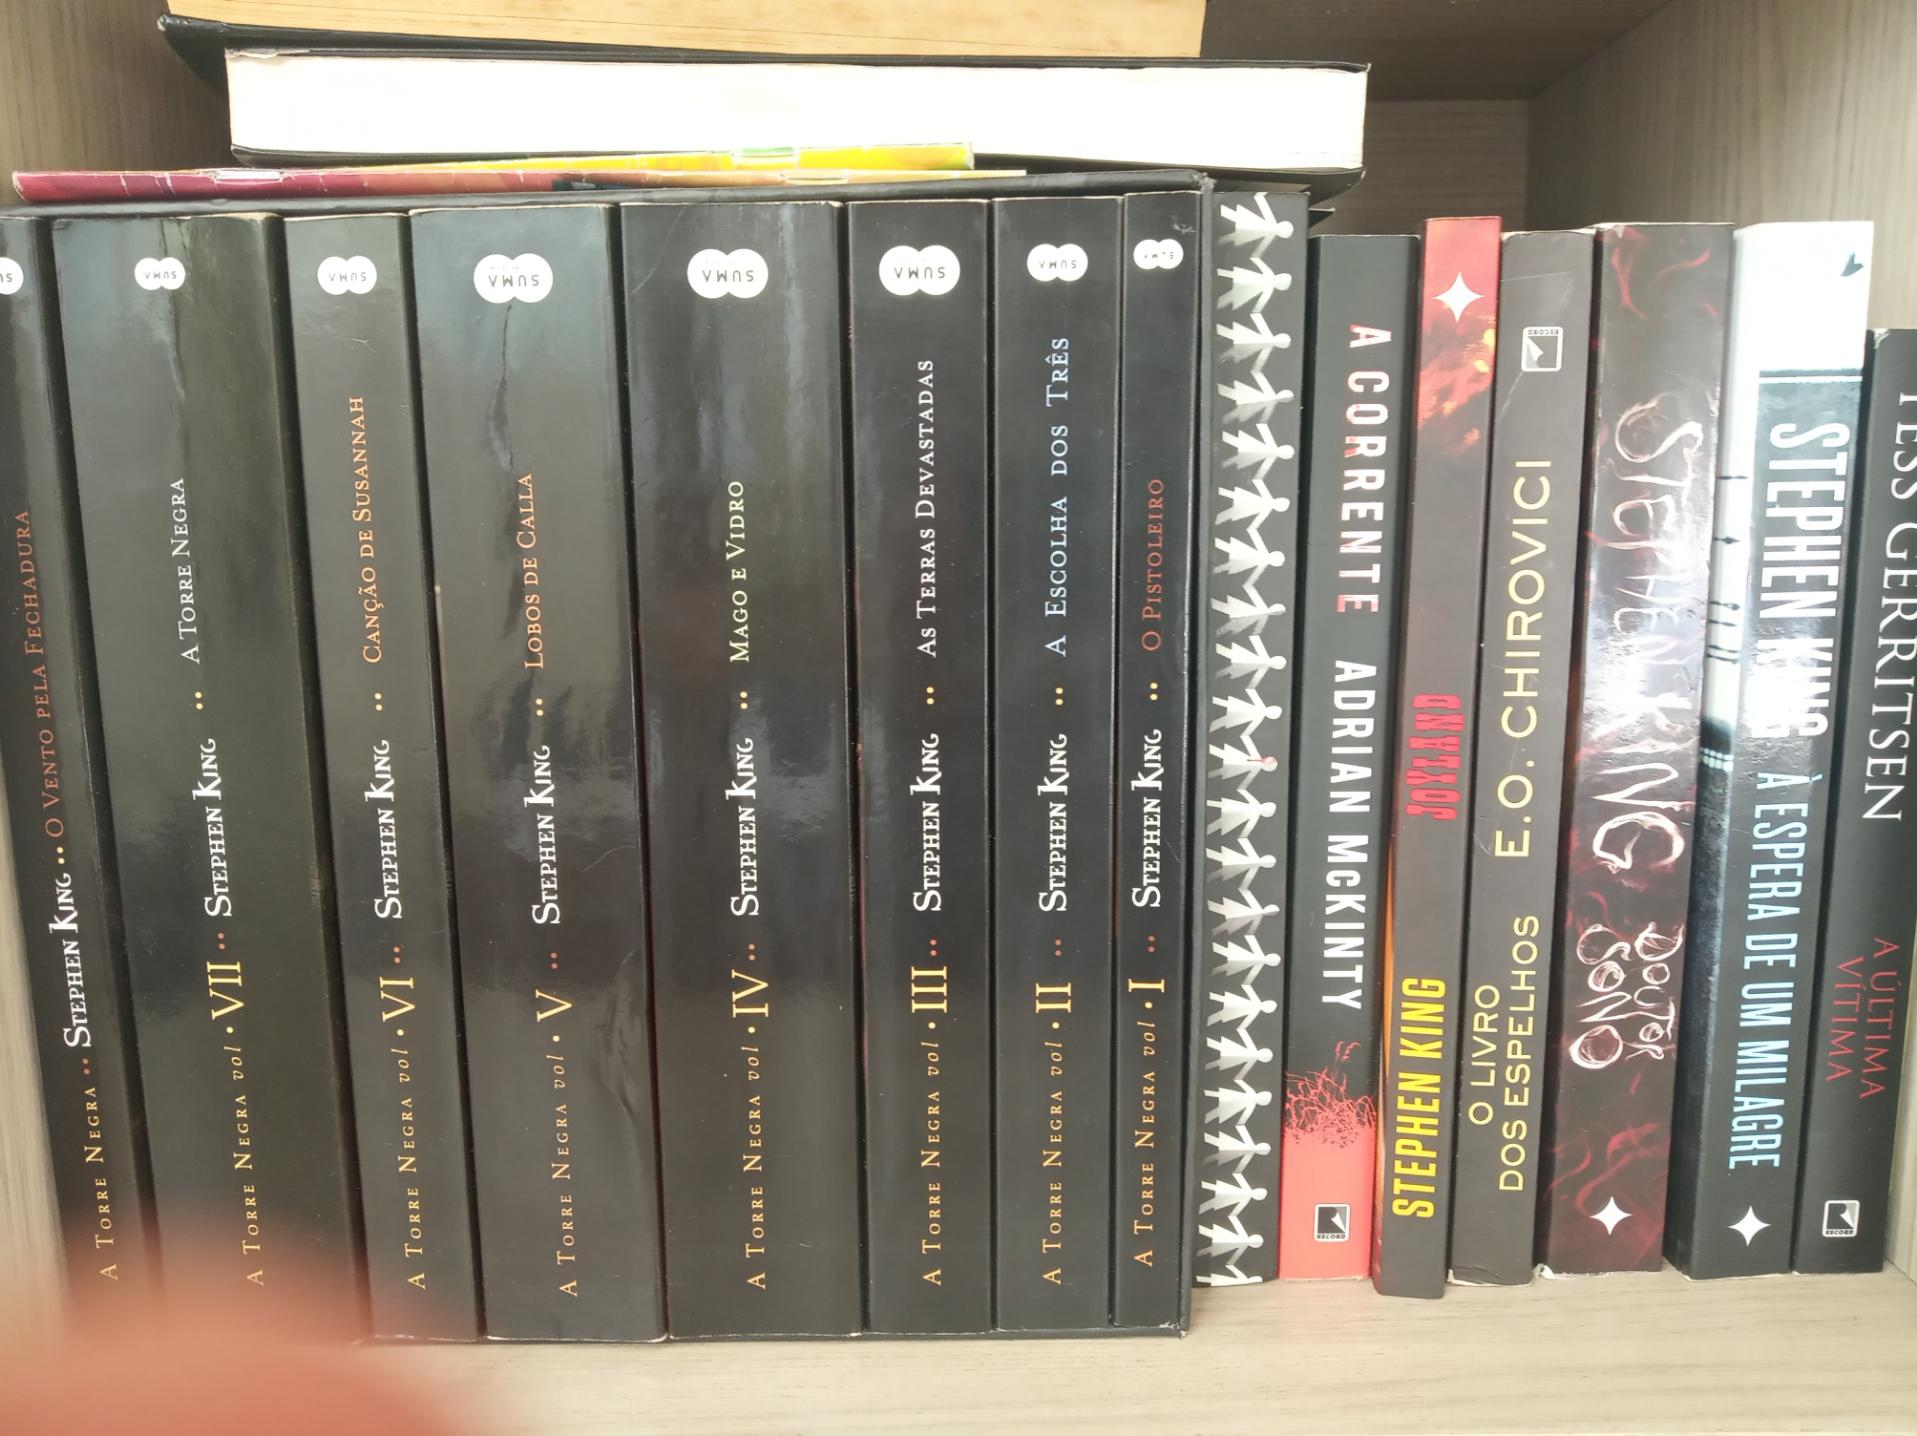book: (686, 204, 830, 1321), (882, 219, 989, 1321), (501, 208, 600, 1318), (1005, 201, 1100, 1318), (1612, 222, 1709, 1269), (1204, 199, 1281, 1281), (1329, 249, 1388, 1284), (1127, 238, 1182, 1315)
